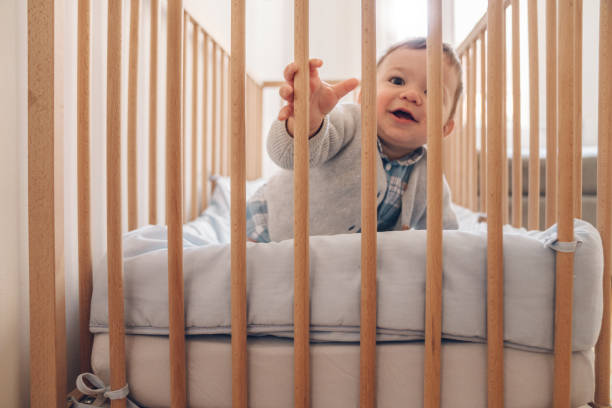baby: (309, 59, 360, 234)
crib: (423, 0, 518, 406)
